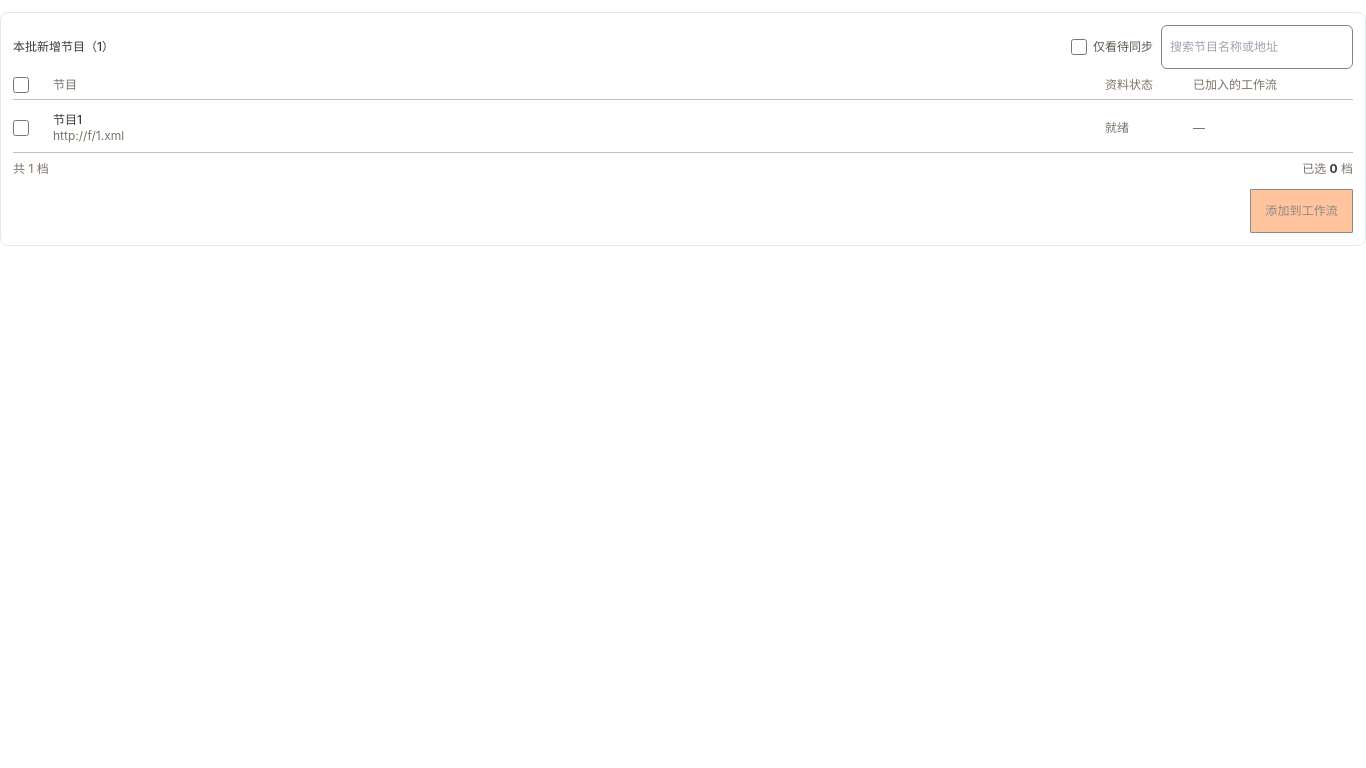
Scenario: NewPodcastsSection › keeps the dialog and selection when the save fails
This screenshot has width=1366, height=768.
Click the checkbox named "选择「节目1」" at x=21, y=128, box [13,120,29,136]
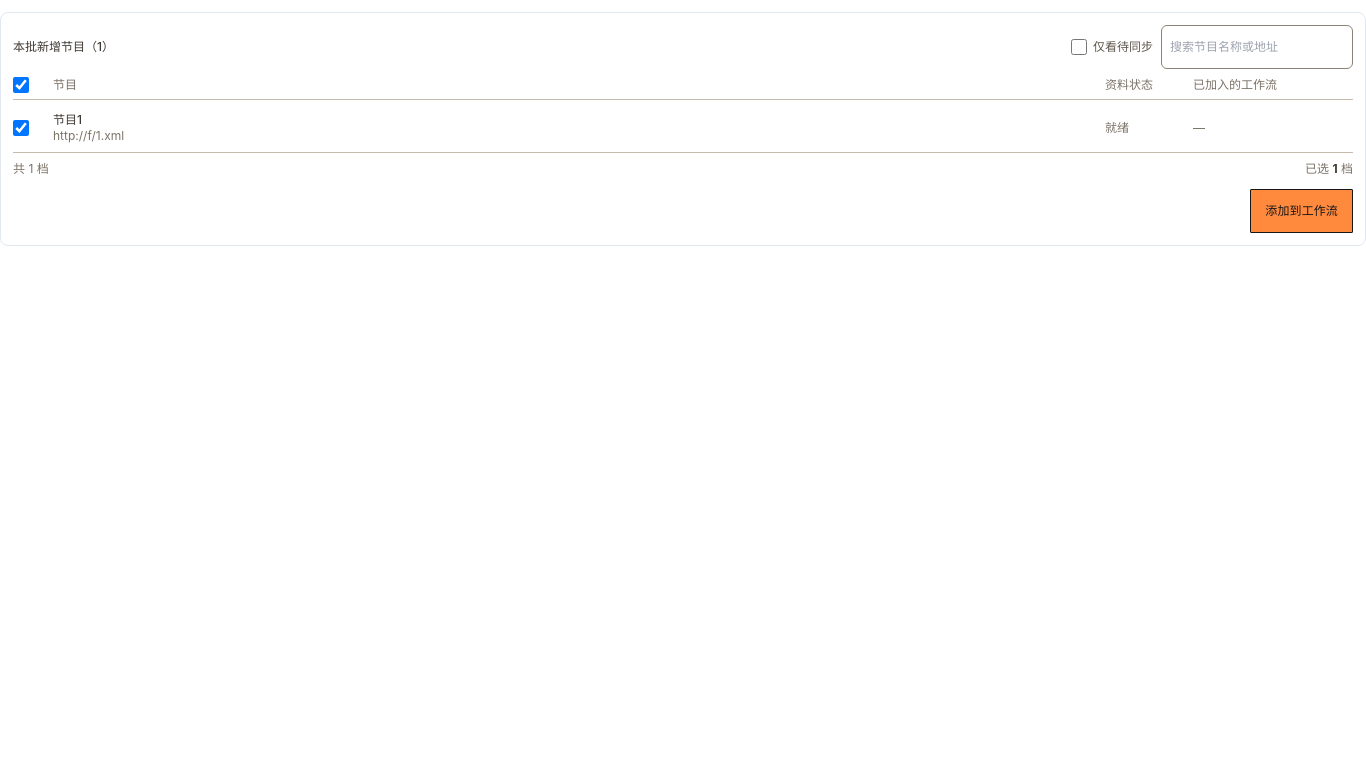
Click the button "添加到工作流" at x=1302, y=211, box [1250,189,1353,233]
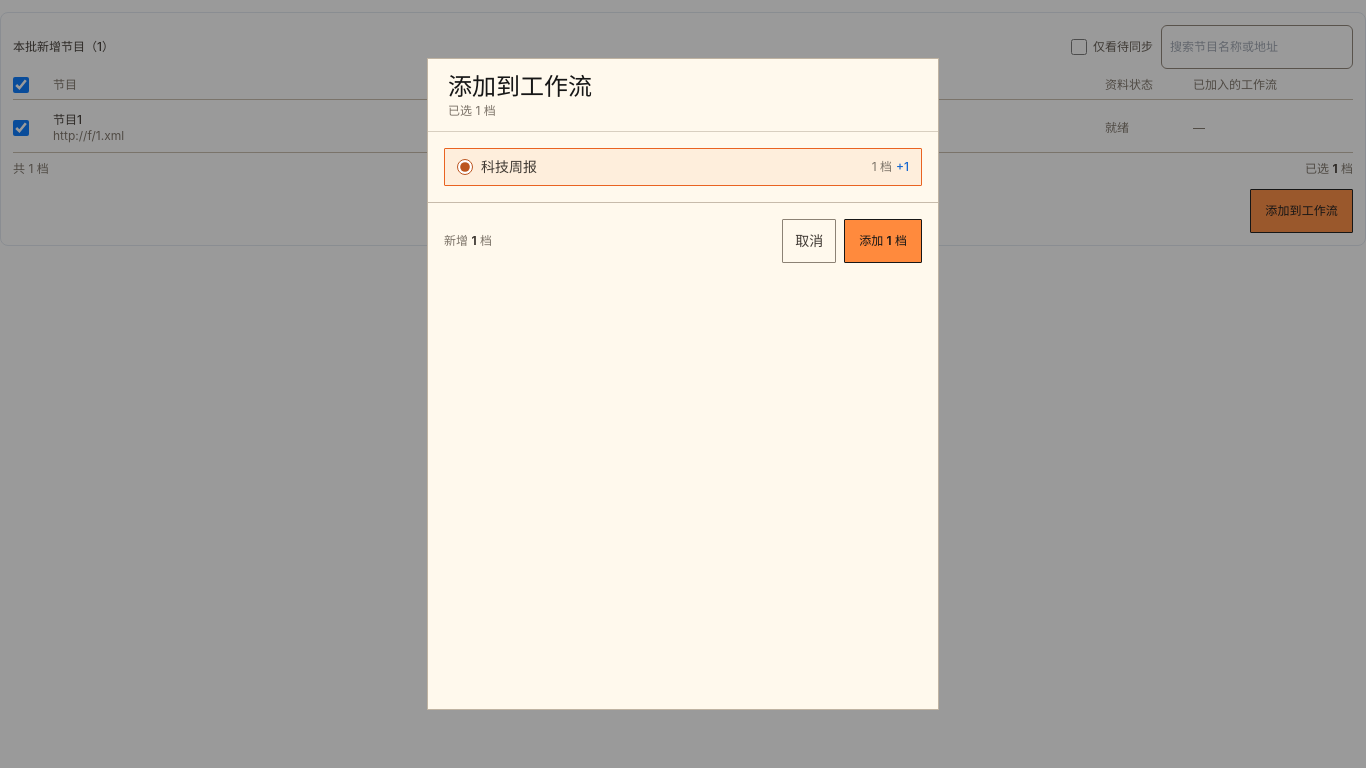
Result: the button "添加 1 档" is shown
Click the button "添加 1 档" at x=883, y=241, box [844,219,922,263]
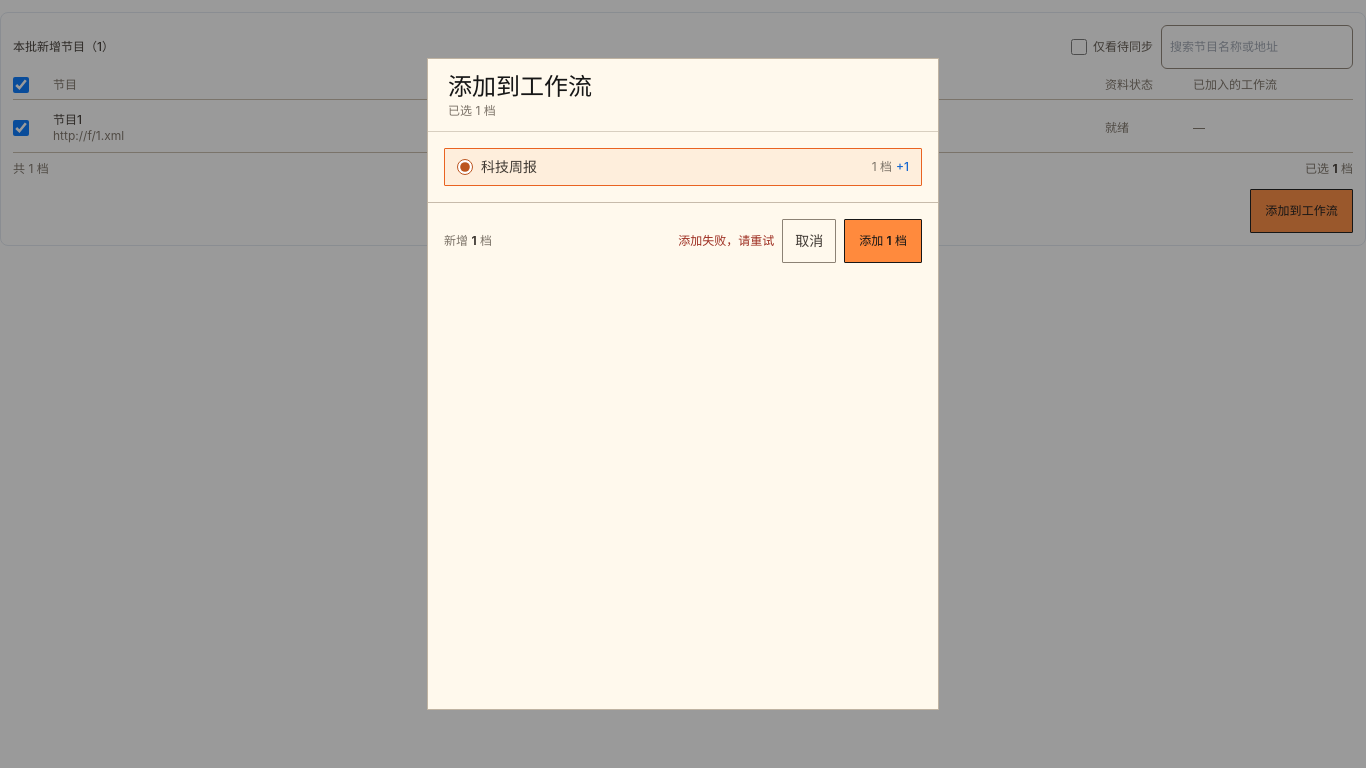
Result: the checkbox named "选择「节目1」" is checked at [13,120,29,136]
Result: the button "取消" is shown
Result: the text "添加失败，请重试" is shown at [678,233,774,249]
Click the button "取消" at x=809, y=241, box [782,219,836,263]
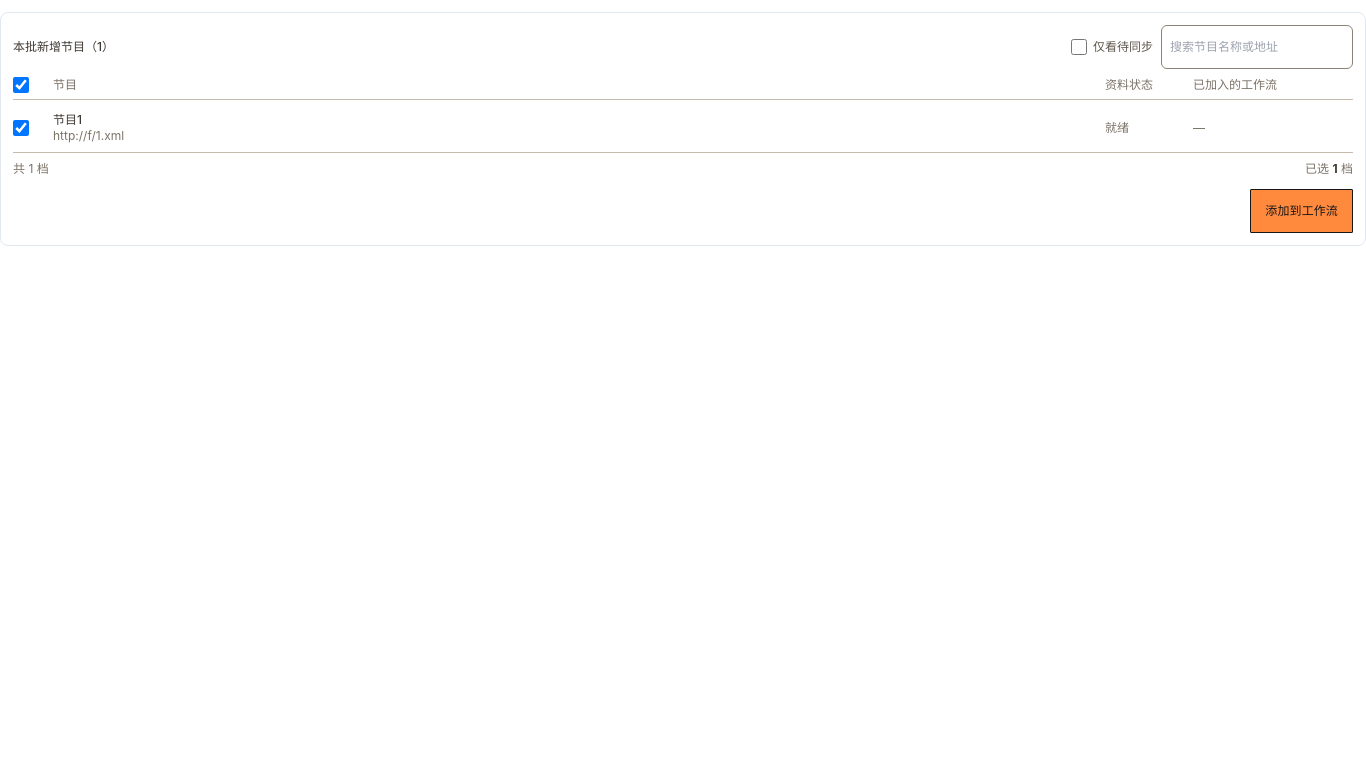
Result: the dialog is gone
